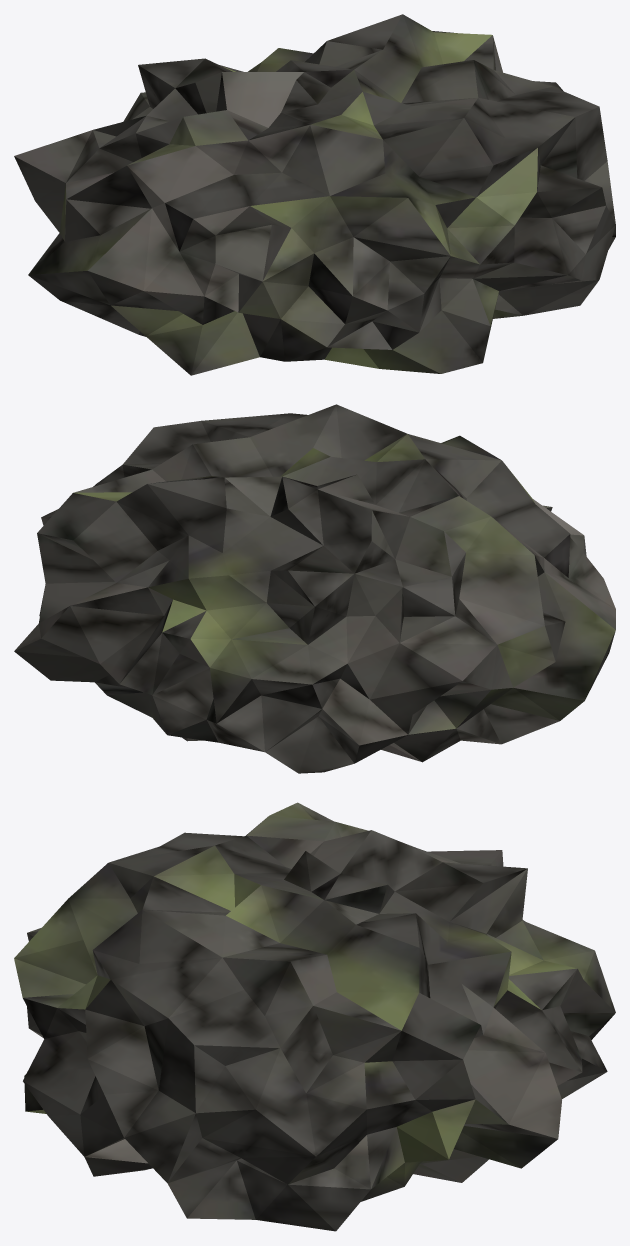
File: rock1.fbx
3 renders of one model, top to bottom at view 1: azimuth 30°, elevation 25°; view 2: azimuth 150°, elevation 25°; view 3: azimuth 270°, elevation 25°, orthographic. The views are drawn at different scales.
Parts seen in each view (by area): view 1: rock1; view 2: rock1; view 3: rock1.
Boxes of the visible parts, x1,y1,x2,y2 form: rock1: (14,14,615,375); rock1: (14,404,615,773); rock1: (14,802,615,1231).
Bounding box in the file's own units: 3.08 × 1.17 × 2.62.
Materials: 1 (1 with a texture image).
